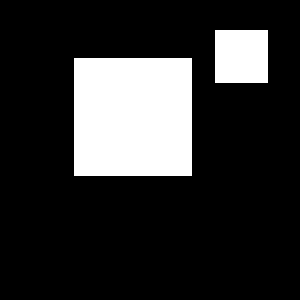circle: (74, 58, 192, 176), (215, 30, 268, 83)
